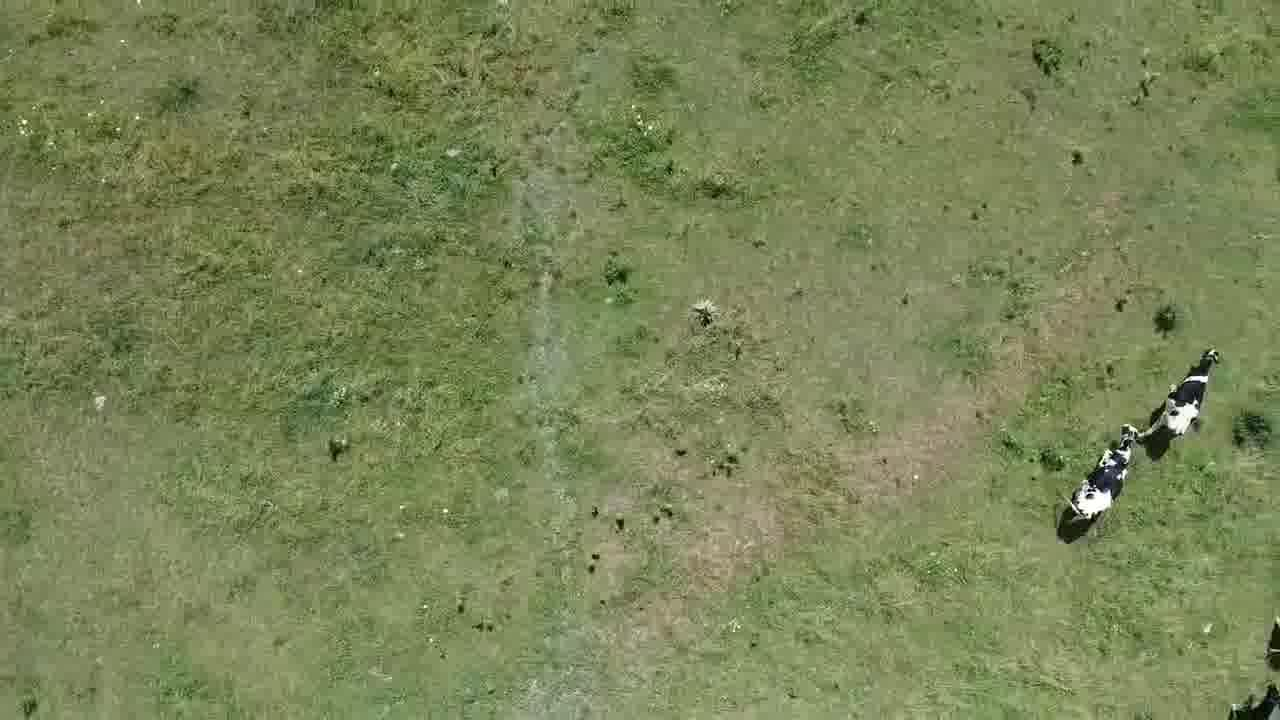cow: (1059, 420, 1144, 540), (1137, 343, 1225, 448)
